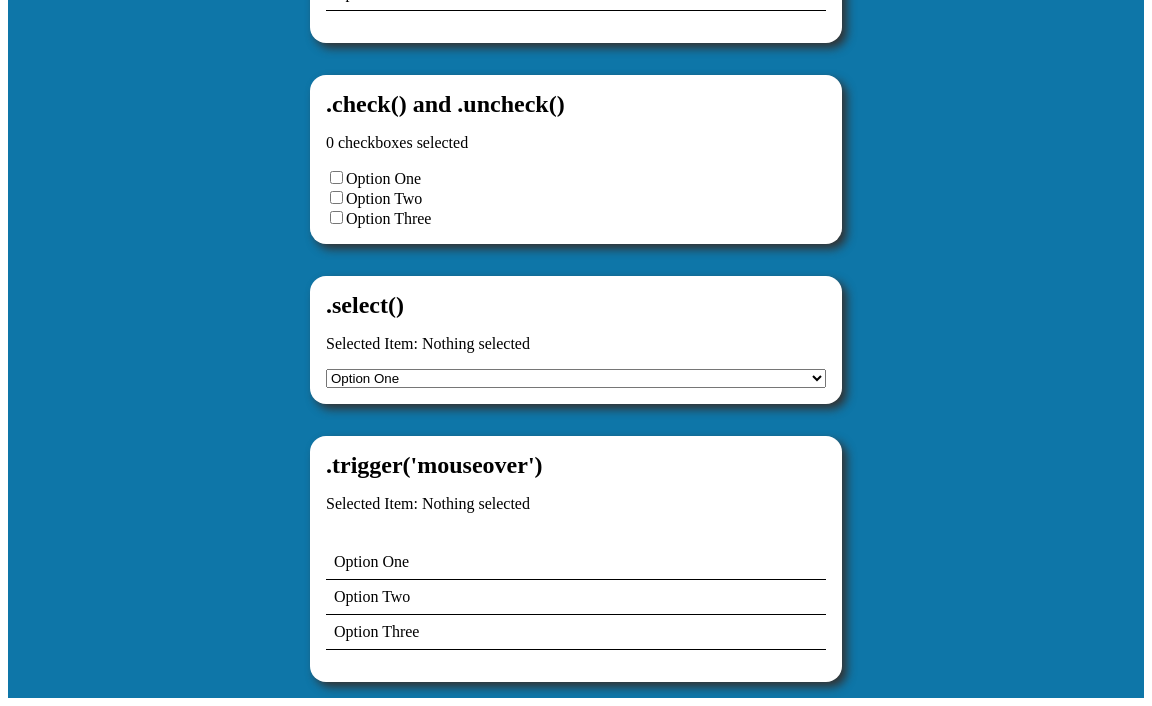
Test: Fourth block, commands: trigger › Validate hover
(page scrolled)
Hover over the list item "Option One" at (576, 563), box [326,545,826,580]
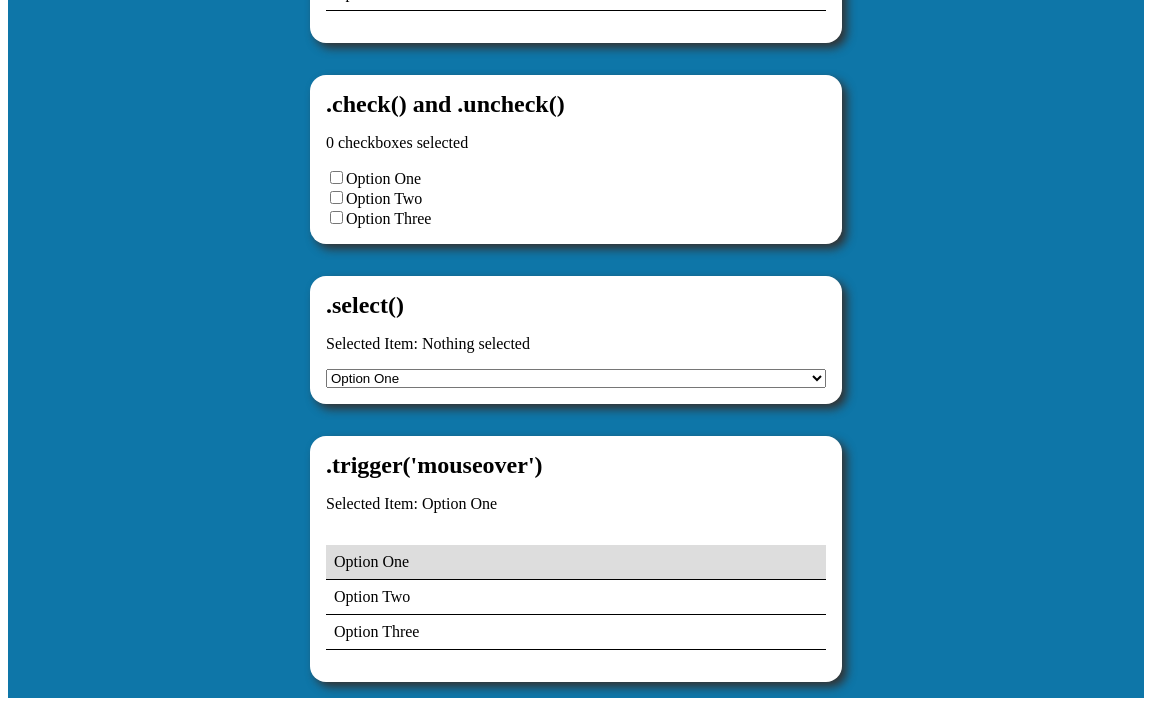
Expected: the text with test id "box-4-selected-name" reads "Option One", [422,495,497,512]
Hover over the list item "Option Two" at (576, 598), box [326,580,826,615]
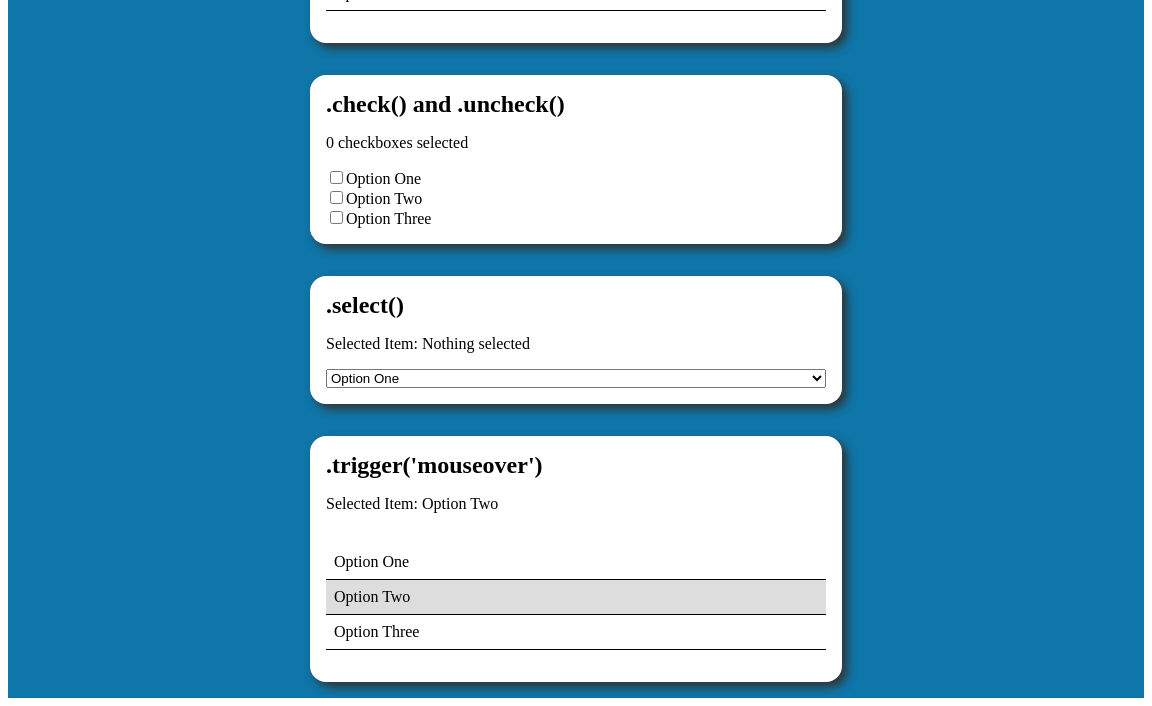
Expected: the text with test id "box-4-selected-name" reads "Option Two", [422,495,498,512]
Hover over the list item "Option Three" below ".trigger('mouseover')" at (576, 633), box [326,615,826,650]
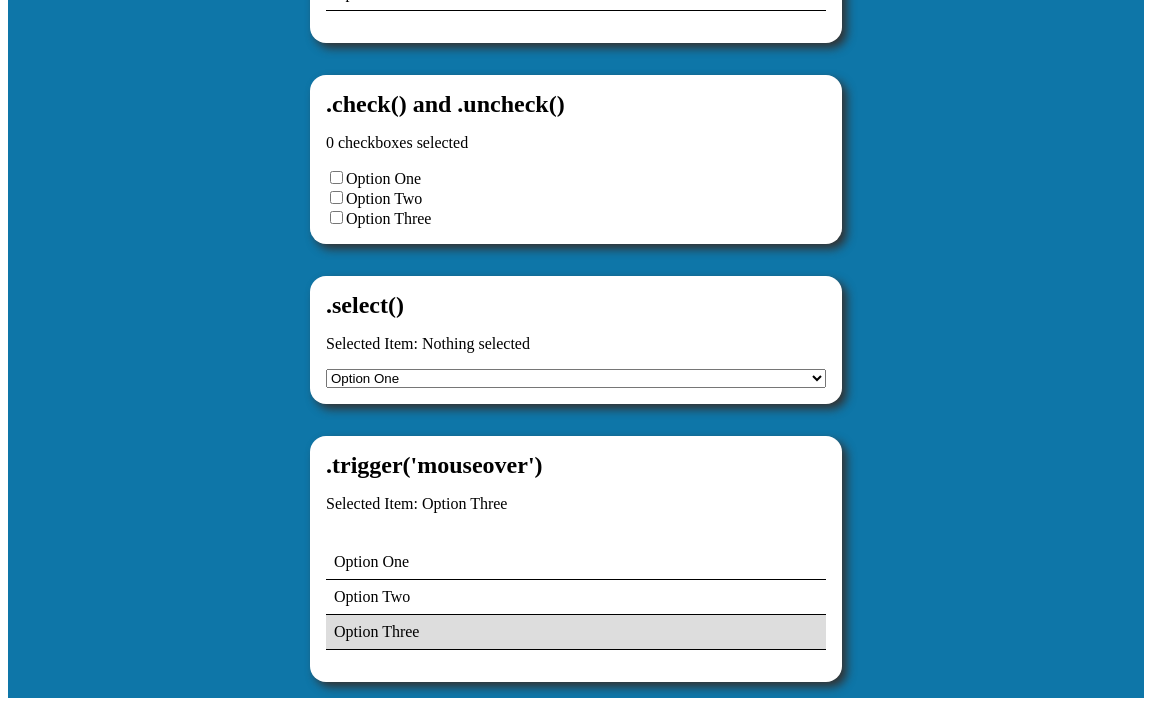
Expected: the text with test id "box-4-selected-name" reads "Option Three", [422,495,508,512]
